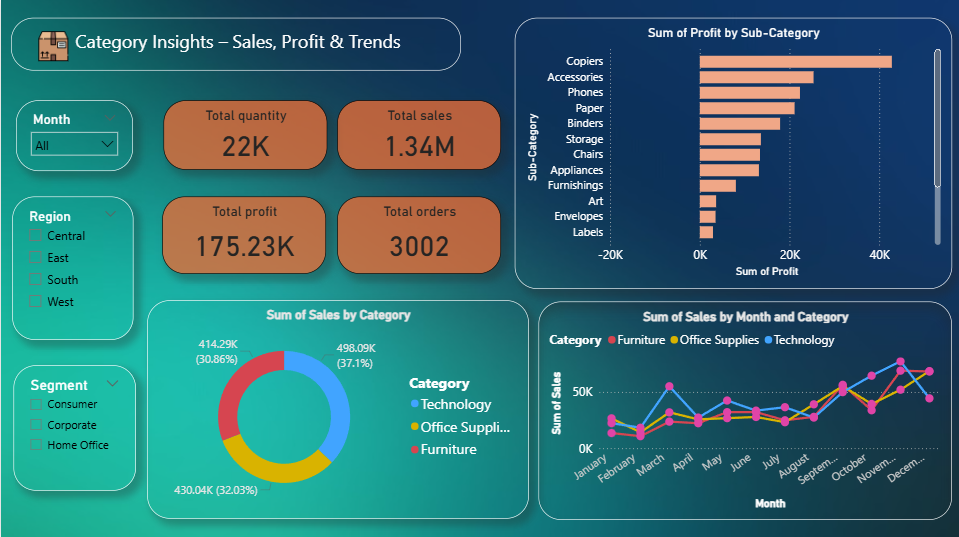

The dashboard page shown, as its layout file describes it:
{"tool":"powerbi","page":{"name":"Page 4","canvas":[1280,720],"ordinal":2},"visuals":[{"type":"clusteredBarChart","fields":{"Y":["Sum(Orders.Profit)"],"Category":["Orders.Sub-Category"]},"box":[685.7,25.7,582.9,361.4],"z":0},{"type":"areaChart","fields":{"Series":["Orders.Category"],"Category":["Orders.Order Date.Variation.Date Hierarchy.Month"],"Y":["Sum(Orders.Sales)"]},"box":[717.1,402.9,551.4,291.4],"z":1000},{"type":"donutChart","fields":{"Y":["Sum(Orders.Sales)"],"Category":["Orders.Category"]},"box":[194.3,401.4,508.6,291.4],"z":2000},{"type":"slicer","fields":{"Values":["Orders.Region"]},"box":[15.7,262.9,161.4,191.4],"z":3000},{"type":"slicer","fields":{"Values":["Orders.Segment"]},"box":[17.1,488.6,162.9,167.1],"z":4000},{"type":"slicer","fields":{"Values":["Orders.Order Date.Variation.Date Hierarchy.Month"]},"box":[20,134.3,155.7,94.3],"z":5000},{"type":"card","title":"Total sales","fields":{"Values":["Orders.Total Sales"]},"box":[448.6,134.3,218.6,92.9],"z":6000},{"type":"card","title":"Total quantity","fields":{"Values":["Orders.Total Quanity"]},"box":[217.1,134.3,218.6,92.9],"z":7000},{"type":"card","title":"Total profit","fields":{"Values":["Orders.total profit"]},"box":[215.7,262.9,218.6,102.9],"z":8000},{"type":"card","title":"Total orders","fields":{"Values":["Orders.Total Orders"]},"box":[448.6,262.9,218.6,102.9],"z":9000},{"type":"textbox","box":[12.9,25.7,600,70],"z":10000},{"type":"image","box":[44.3,32.9,50,58.6],"z":11000}]}

Visuals, with their boxes in screenshot pixels (x1, y1, x2, y2), scaled from the page's 1280x720 canvas onto the 959x537 screenshot:
clusteredBarChart - Sum(Orders.Profit) x Orders.Sub-Category: region(514, 19, 950, 289)
areaChart - Orders.Category x Orders.Order Date.Variation.Date Hierarchy.Month: region(537, 300, 950, 518)
donutChart - Sum(Orders.Sales) x Orders.Category: region(146, 299, 527, 517)
slicer - Orders.Region: region(12, 196, 133, 339)
slicer - Orders.Segment: region(13, 364, 135, 489)
slicer - Orders.Order Date.Variation.Date Hierarchy.Month: region(15, 100, 132, 170)
"Total sales" card: region(336, 100, 500, 169)
"Total quantity" card: region(163, 100, 326, 169)
"Total profit" card: region(162, 196, 325, 273)
"Total orders" card: region(336, 196, 500, 273)
textbox: region(10, 19, 459, 71)
image: region(33, 25, 71, 68)
